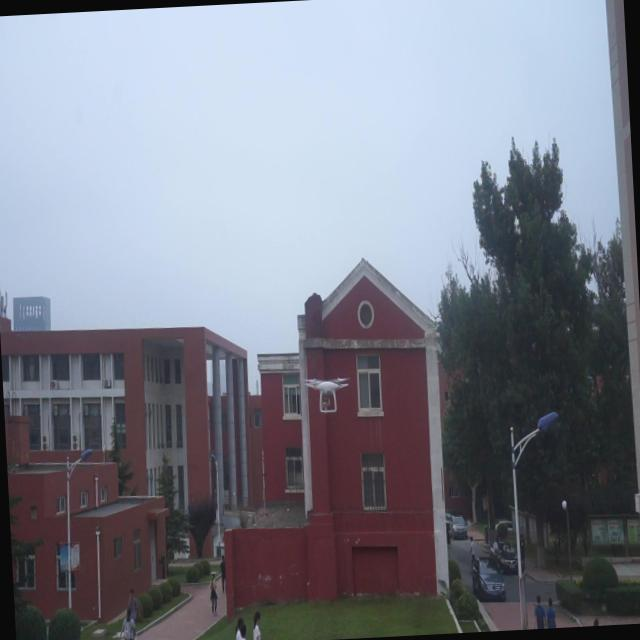drone: (304, 369, 352, 418)
